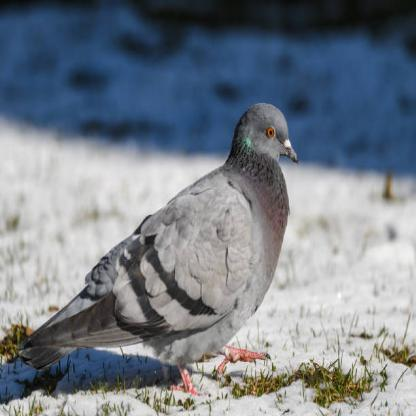Flying Rat: (5, 100, 310, 403)
